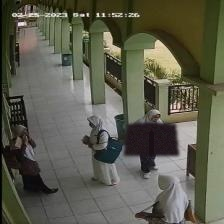Cadar_Niqab: (123, 106, 178, 155)
